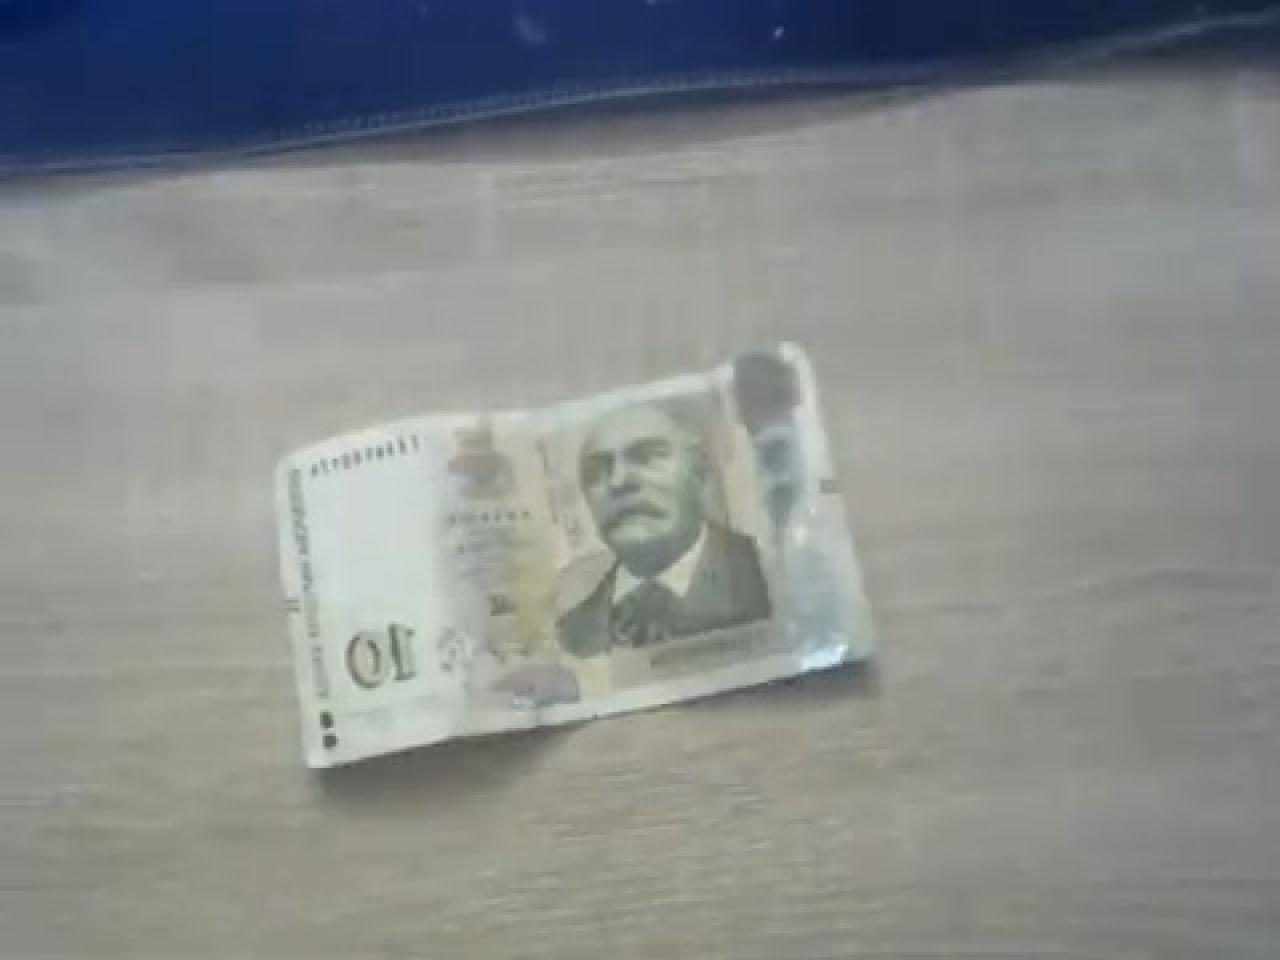10leva: (275, 336, 877, 770)
